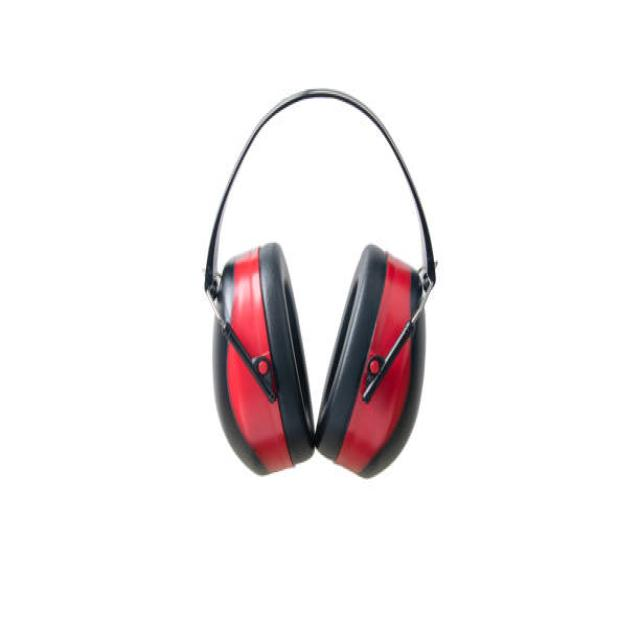Ear-protection: (162, 60, 468, 506)
